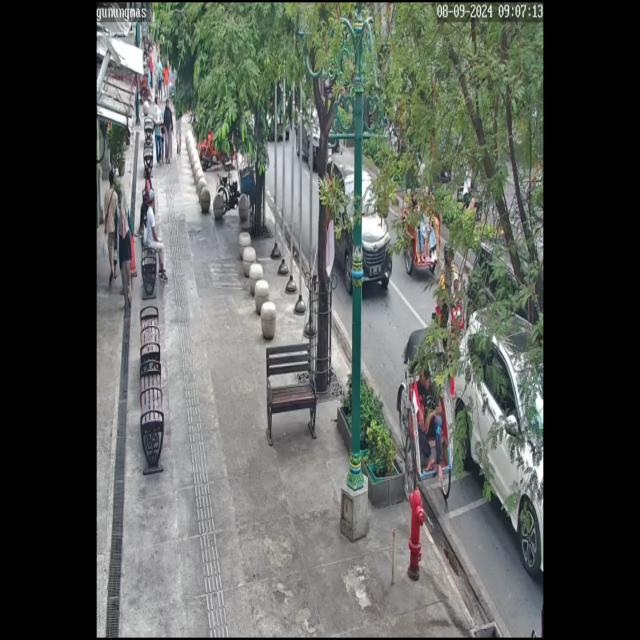Car: (447, 292, 544, 588), (318, 149, 395, 314)
